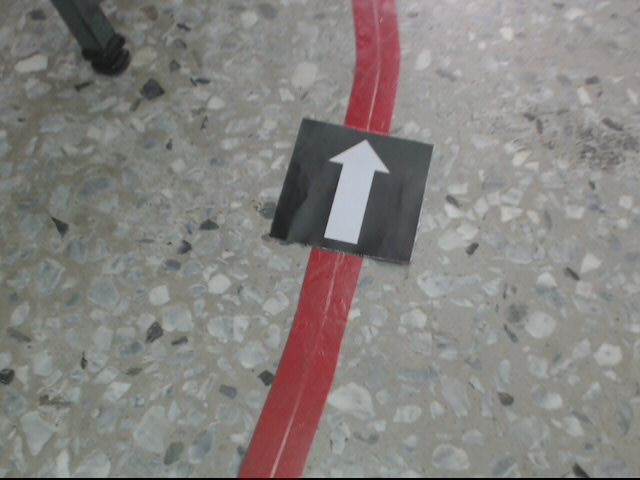straight: (269, 118, 437, 265)
